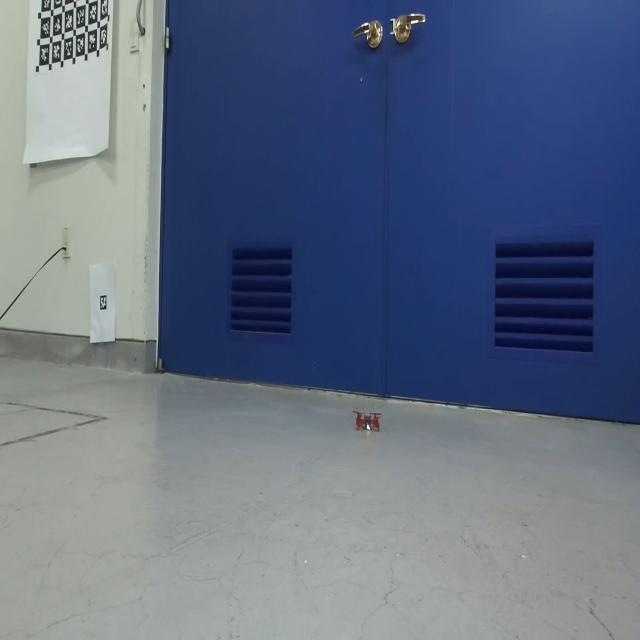crazyflie: (352, 408, 384, 434)
